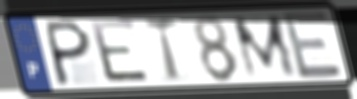8: (191, 14, 241, 84)
E: (279, 8, 346, 82), (87, 17, 153, 85)
M: (229, 12, 300, 81)
P: (44, 17, 93, 88)
T: (142, 14, 184, 84)
